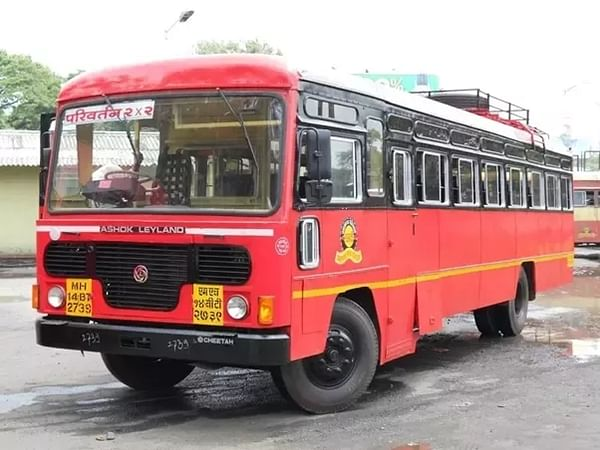bus: (31, 52, 575, 416)
